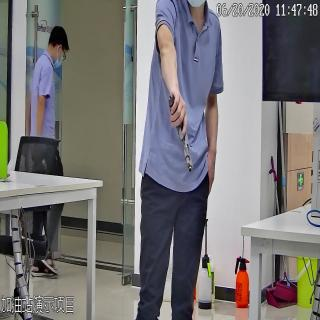gun: (167, 89, 195, 175)
